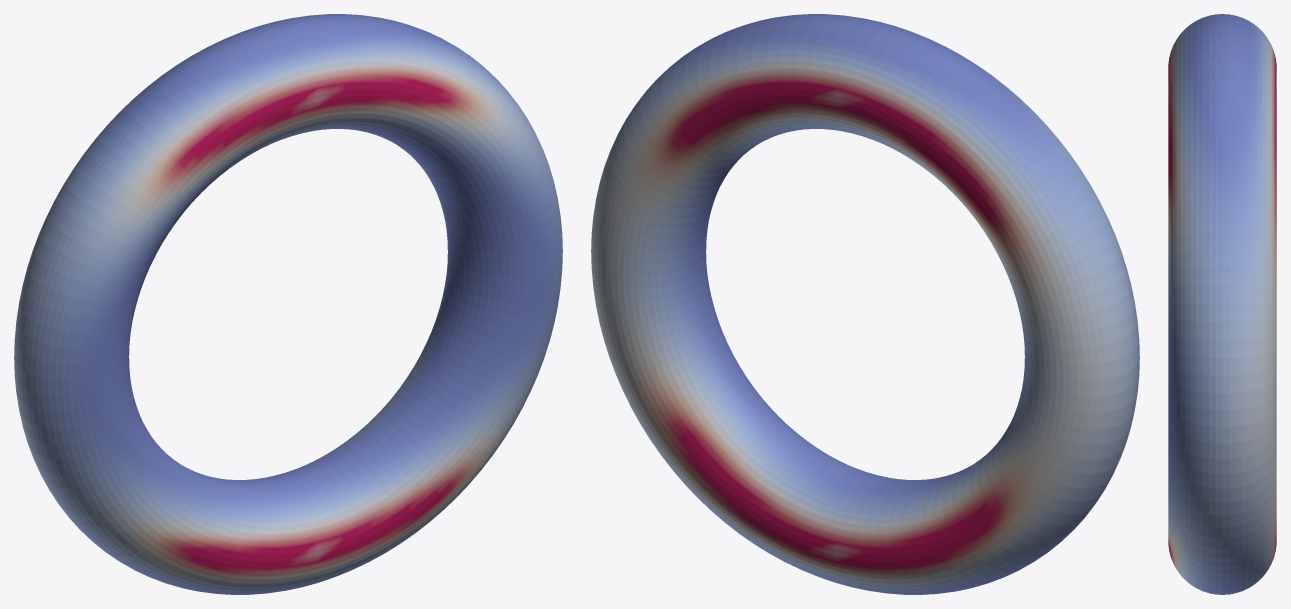
3 views of the same model, side by side, from view 1: azimuth 30°, elevation 25°; view 2: azimuth 150°, elevation 25°; view 3: azimuth 270°, elevation 25° (orthographic). The views are drawn at different scales.
Parts seen in each view (by area): view 1: world; view 2: world; view 3: world.
Boxes of the visible parts, box(x1,y1,x2,y2) form: world: box(14, 14, 562, 594); world: box(591, 14, 1139, 594); world: box(1168, 14, 1276, 594).
Size of the model in its own units: 22.13 by 22.13 by 4.13.
